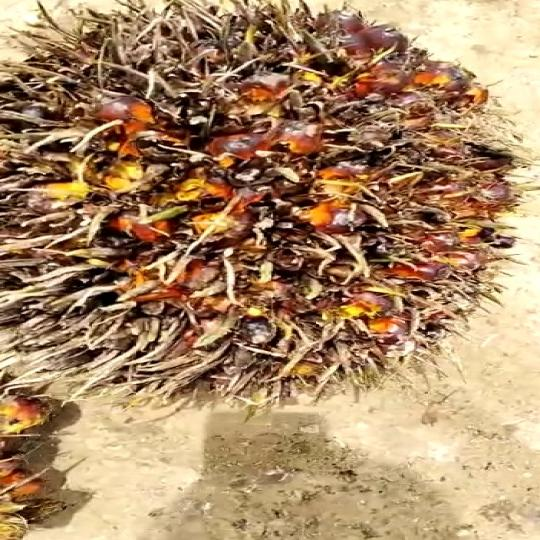terlalu masak: (0, 0, 540, 417)
